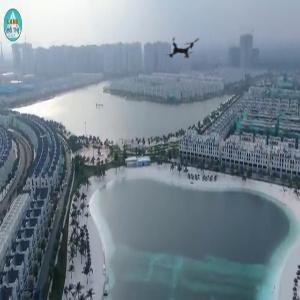drone: (154, 21, 212, 79)
